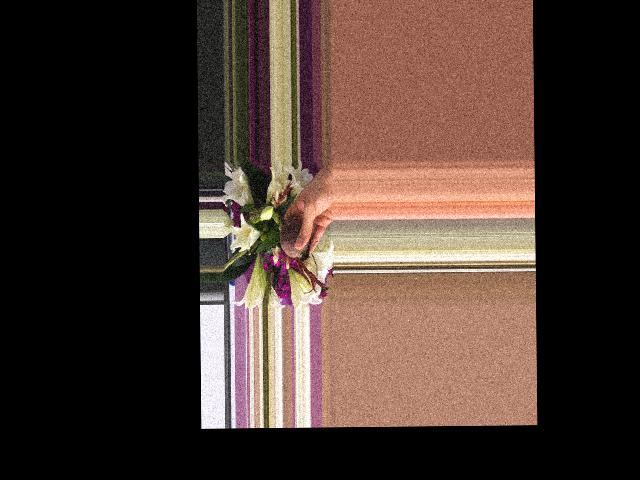beet: (272, 208, 310, 261)
